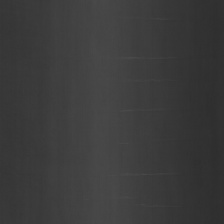waist_folding: (113, 15, 184, 212)
